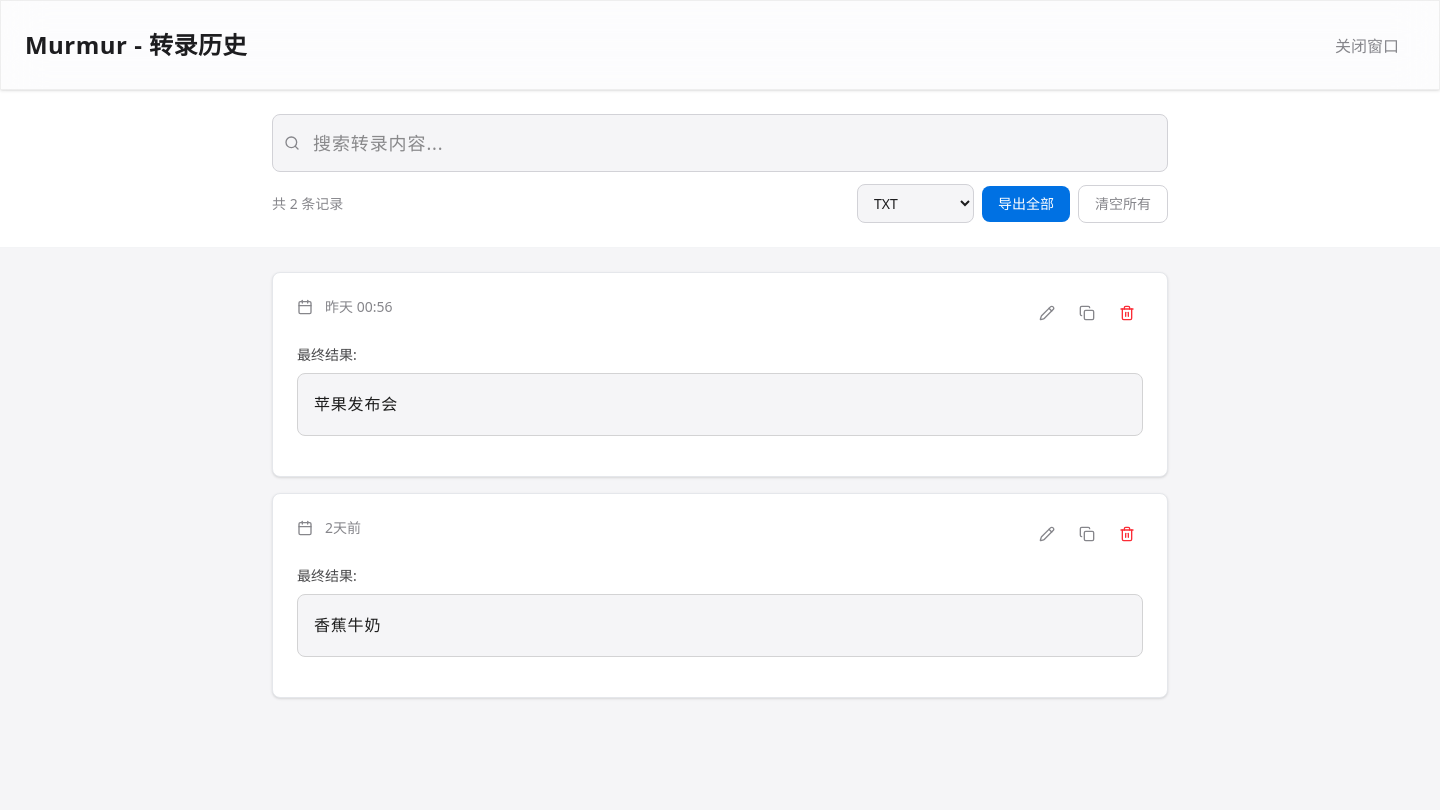
Test: [20260816_Test_HistoryPage] history window entry › filters records client-side by the search query
Expected: the heading "Murmur - 转录历史" is shown, [25,28,247,62]
Expected: the text "苹果发布会" is shown, [297,373,1143,436]
In the field with placeholder "搜索转录内容...": x=720, y=143 [272,114,1168,172], type "香蕉"
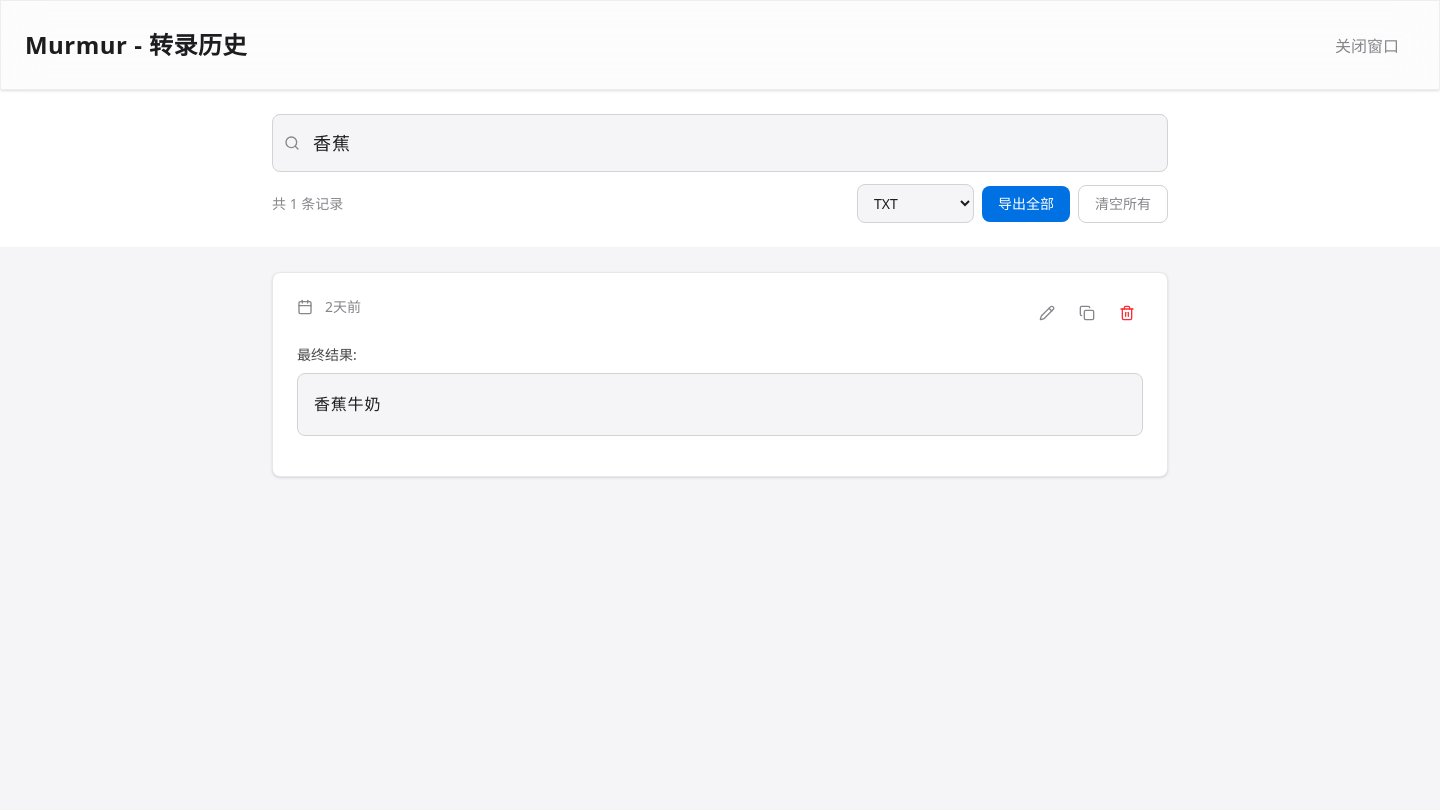
Expected: the text "香蕉牛奶" is shown, [297,373,1143,436]
Expected: the text "苹果发布会" is gone
Expected: the text "共 1 条记录" is shown, [272,194,343,214]
